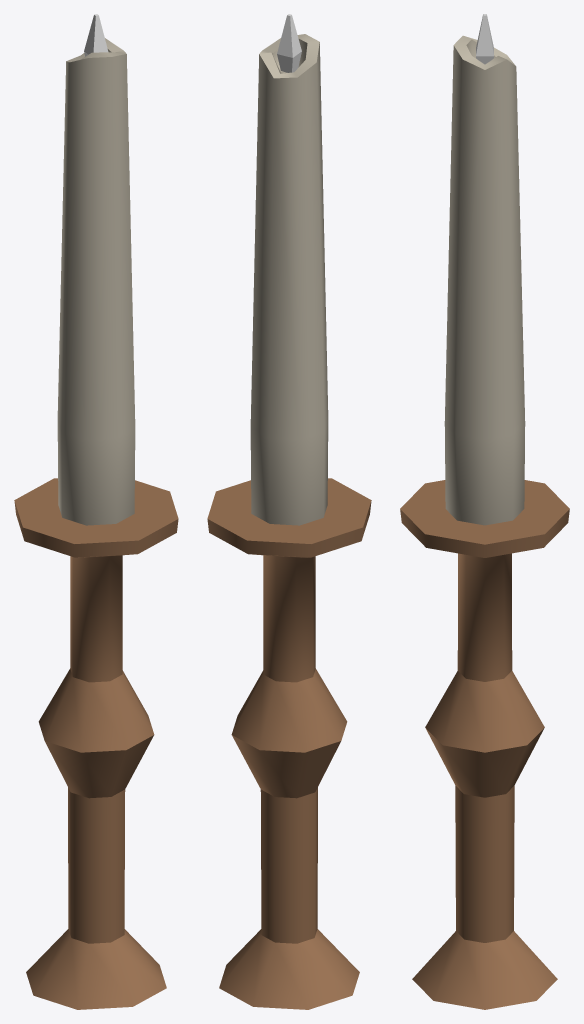
The model's file is Candle2.fbx.
3 views of the same model, side by side, from view 1: azimuth 30°, elevation 25°; view 2: azimuth 150°, elevation 25°; view 3: azimuth 270°, elevation 25° (orthographic).
Visible parts, largest first — view 1: Candle2; view 2: Candle2; view 3: Candle2.
Part boxes in pixels (x1,y1,x2,y2): Candle2: (14, 14, 178, 1009); Candle2: (207, 14, 371, 1009); Candle2: (400, 14, 569, 1009).
Size of the model in its own units: 27.76 by 174 by 27.76.
